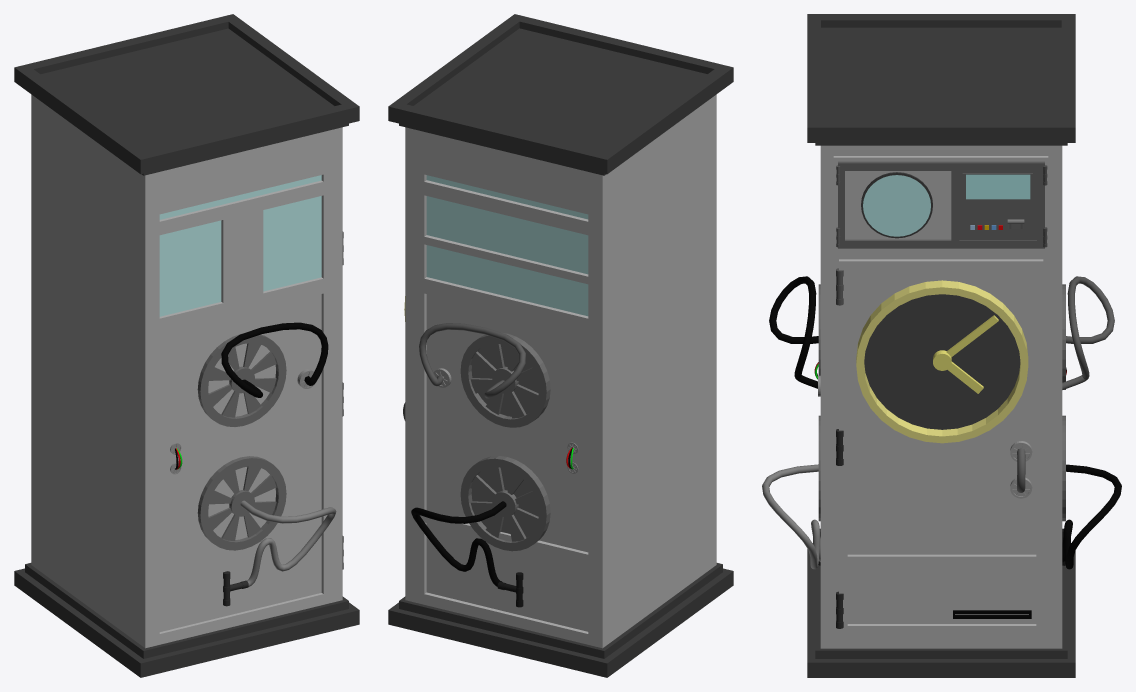
File: TimeMachine.fbx
The picture shows the model from 3 angles, left to right: view 1: azimuth 30°, elevation 25°; view 2: azimuth 150°, elevation 25°; view 3: azimuth 270°, elevation 25°; orthographic projection. The views are drawn at different scales.
Parts seen in each view (by area): view 1: Cube, Cube.001, Cube.005, Cylinder.041, BezierCurve.001, BezierCurve; view 2: Cube, Cube.001, Cube.005, Cylinder.041, BezierCurve.008, BezierCurve.009; view 3: Cube, Cube.001, Cylinder.004, Cube.010, Cylinder.042, Cylinder.002, BezierCurve.009, BezierCurve, Cube.019, BezierCurve.008, BezierCurve.001, Cylinder.041 (+5 smaller).
Boxes of the visible parts, box(x1,y1,x2,y2) form: Cube: box(31, 94, 342, 648); Cube.001: box(14, 14, 359, 677); Cube.005: box(159, 175, 321, 316); Cylinder.041: box(197, 333, 286, 550); BezierCurve.001: box(240, 500, 336, 586); BezierCurve: box(221, 322, 328, 397); Cube: box(405, 94, 716, 648); Cube.001: box(388, 14, 733, 677); Cube.005: box(426, 175, 588, 316); Cylinder.041: box(460, 332, 550, 551); BezierCurve.008: box(411, 501, 506, 586); BezierCurve.009: box(419, 323, 525, 398); Cube: box(820, 145, 1062, 648); Cube.001: box(807, 14, 1075, 677); Cylinder.004: box(864, 294, 1020, 429); Cube.010: box(838, 161, 1044, 248); Cylinder.042: box(856, 280, 1028, 443); Cylinder.002: box(863, 175, 930, 236); BezierCurve.009: box(1062, 276, 1114, 389); BezierCurve: box(769, 276, 818, 388); Cube.019: box(966, 174, 1030, 199); BezierCurve.008: box(1062, 464, 1121, 569); BezierCurve.001: box(762, 464, 820, 569); Cylinder.041: box(818, 284, 1065, 521).
Size of the model in its own units: 233 by 502 by 298.
